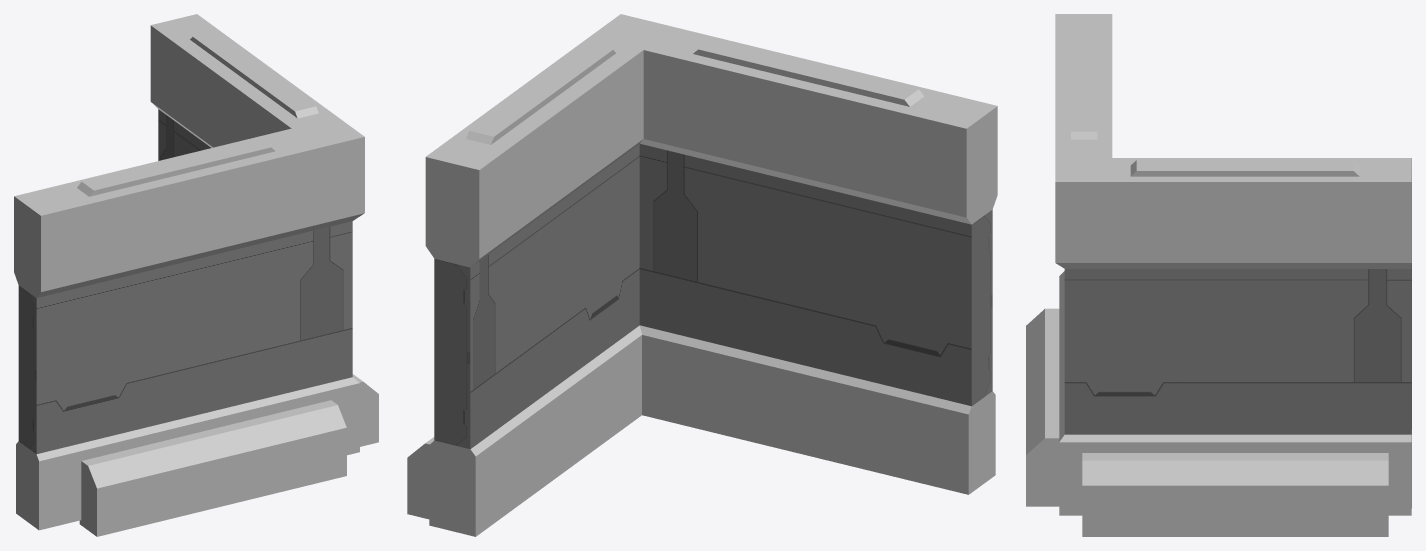
Rendered from SM_Wall_2x2_Corner_1.fbx.
3 renders of one model, left to right at view 1: azimuth 30°, elevation 25°; view 2: azimuth 150°, elevation 25°; view 3: azimuth 270°, elevation 25°, orthographic. The views are drawn at different scales.
Visible parts, largest first — view 1: SM_WallCorner_2x2_1; view 2: SM_WallCorner_2x2_1; view 3: SM_WallCorner_2x2_1.
Boxes of the visible parts, <box> form: SM_WallCorner_2x2_1: <box>14,14,378,536</box>; SM_WallCorner_2x2_1: <box>407,14,997,536</box>; SM_WallCorner_2x2_1: <box>1026,14,1411,536</box>.
Size of the model in its own units: 244 by 217 by 219.
